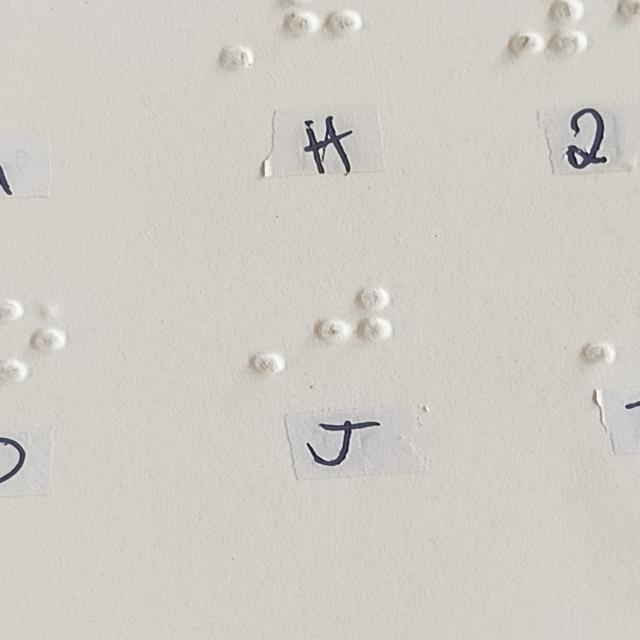capital_sign: (212, 288, 285, 375)
letter_J: (318, 288, 392, 375)
